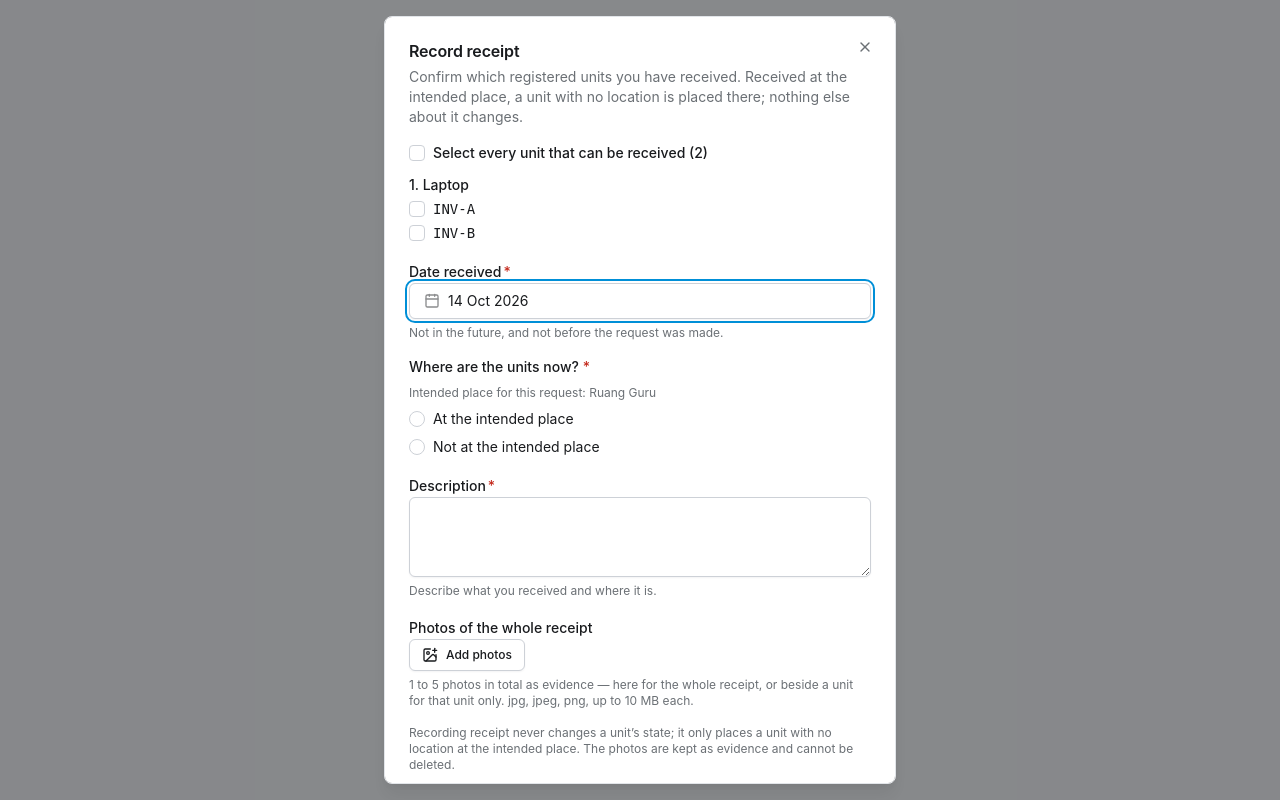
Test case: Record receipt — what happens to each unit’s location › says a unit will need placement when it is not at the intended place
Click the checkbox labelled "INV-A" at (417, 209), box x1=409 y1=201 x2=425 y2=217
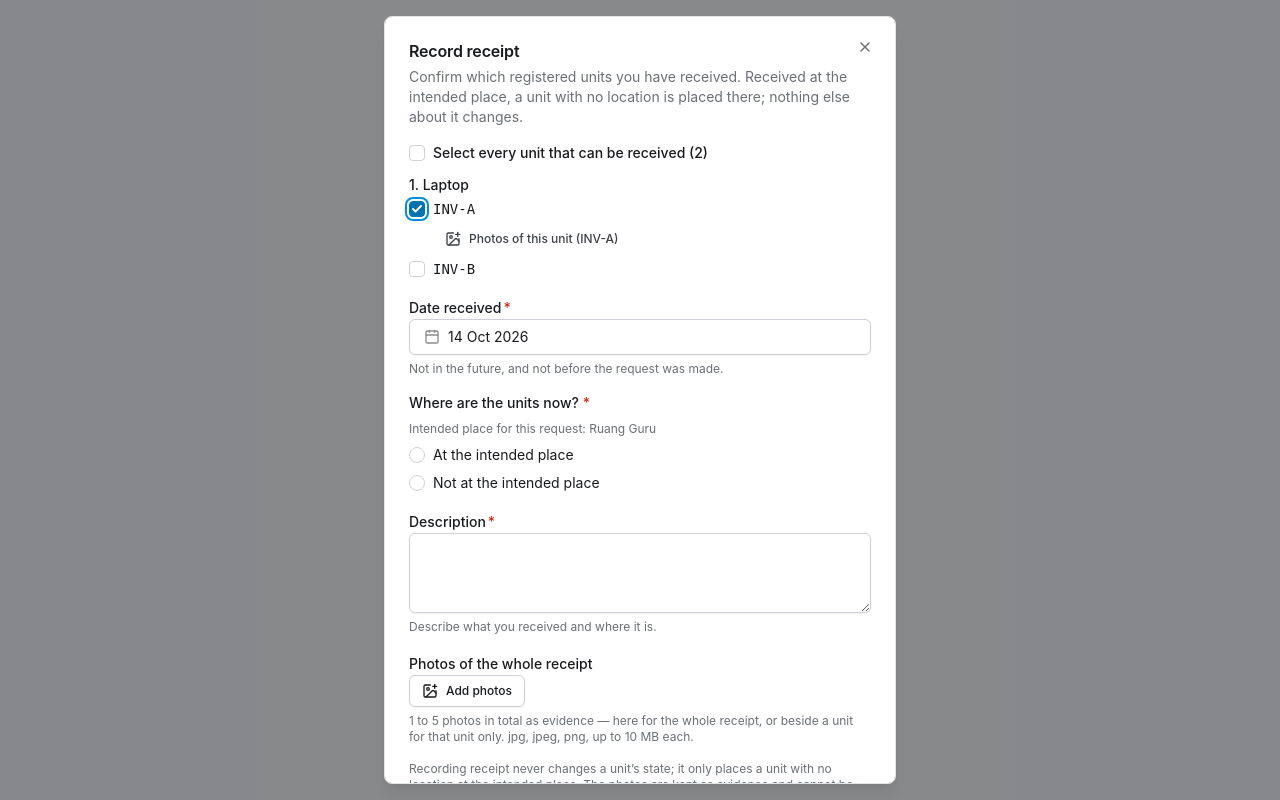
Click the checkbox labelled "INV-B" at (417, 269), box x1=409 y1=261 x2=425 y2=277
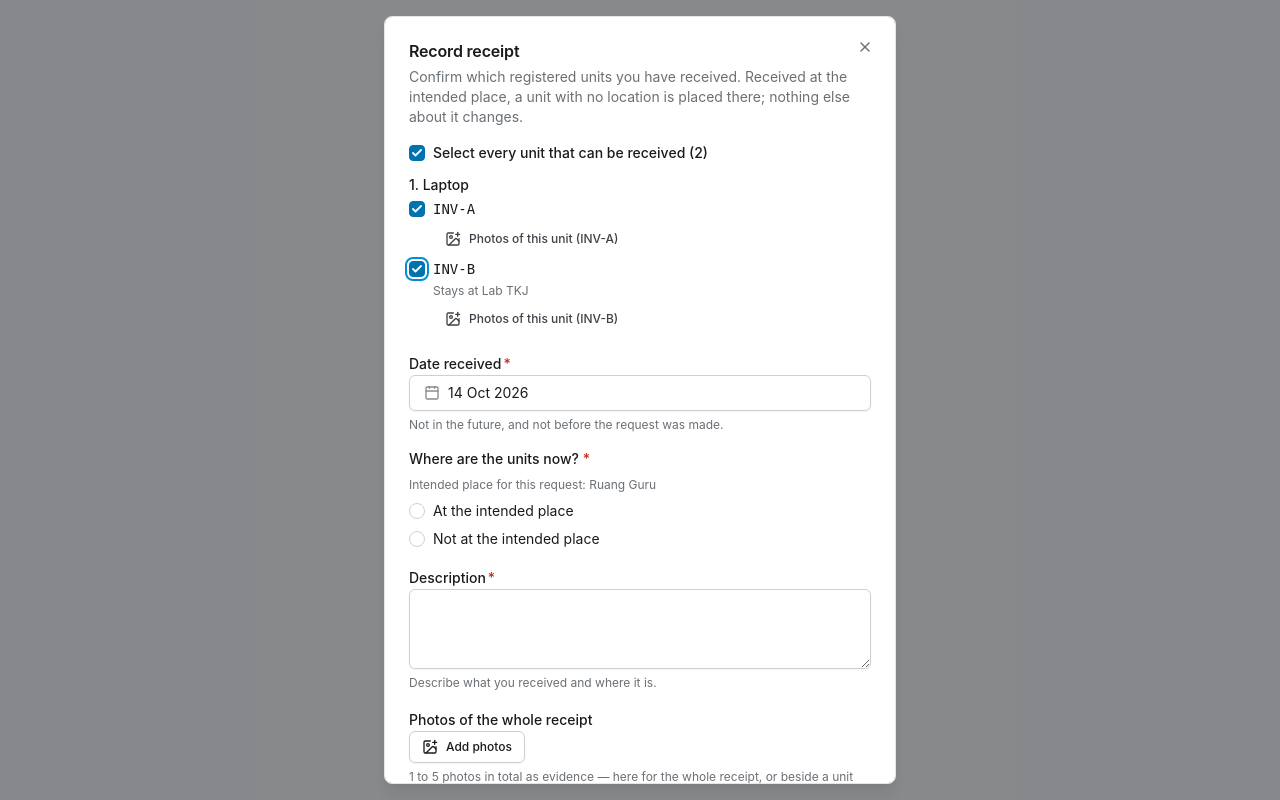
Click the radio button labelled "Not at the intended place" at (417, 539), box x1=409 y1=531 x2=425 y2=547
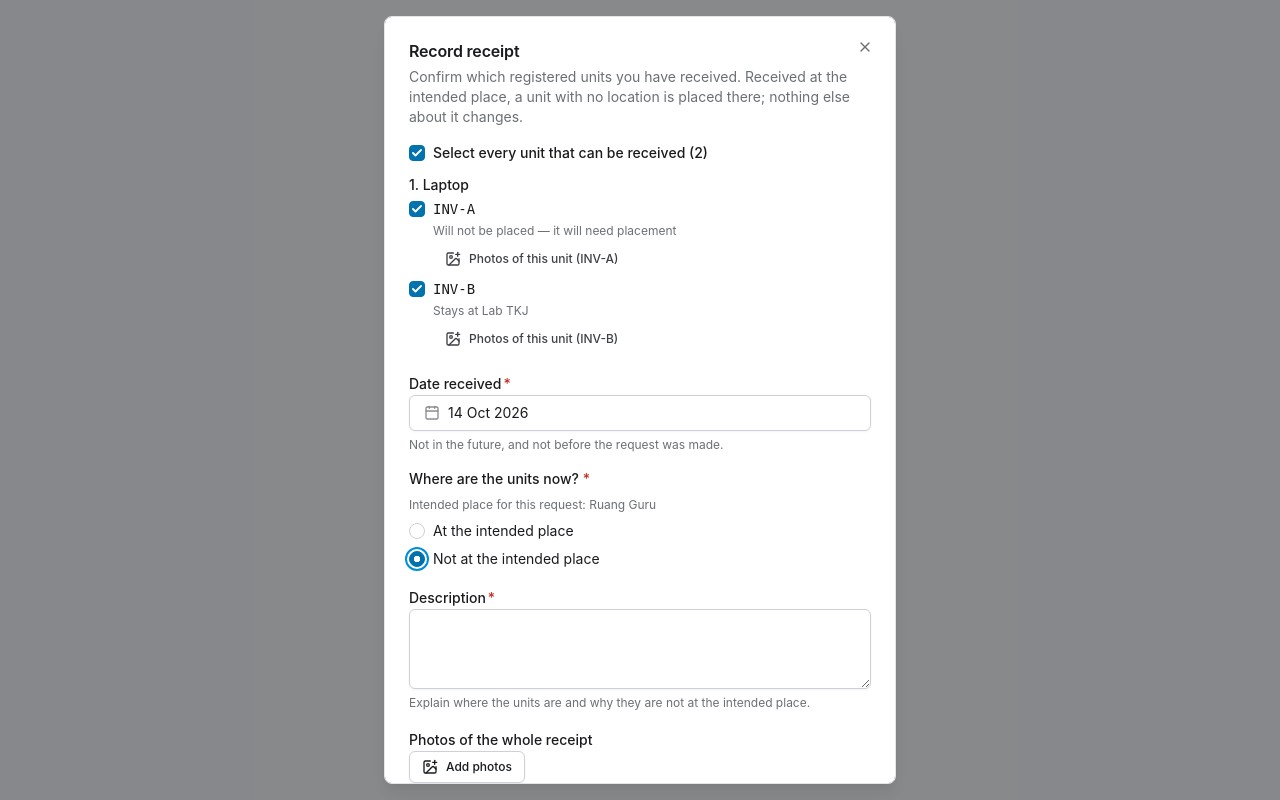
Check: the text with test id "receipt-unit-placement-INV-A" reads "Will not be placed — it will need placement", box x1=433 y1=223 x2=676 y2=238
